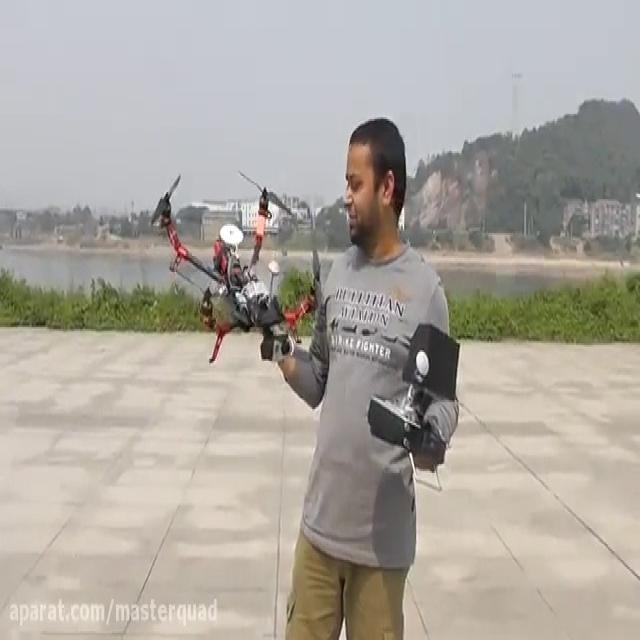drone: (145, 164, 327, 368)
